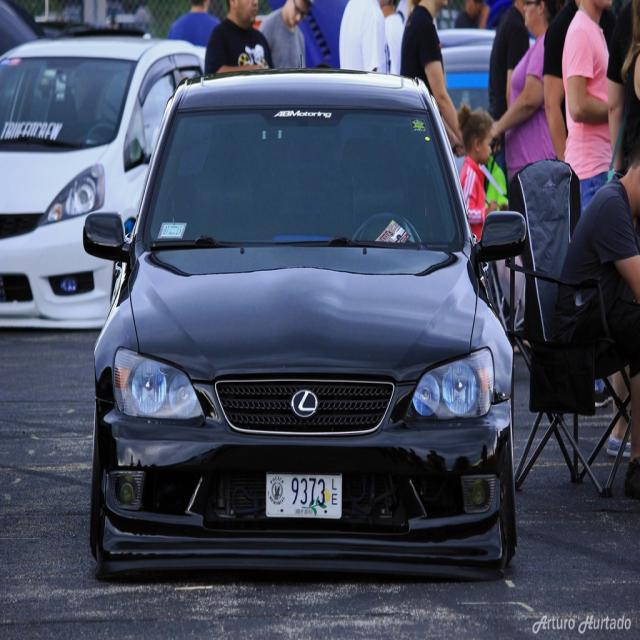car: (74, 48, 504, 599)
